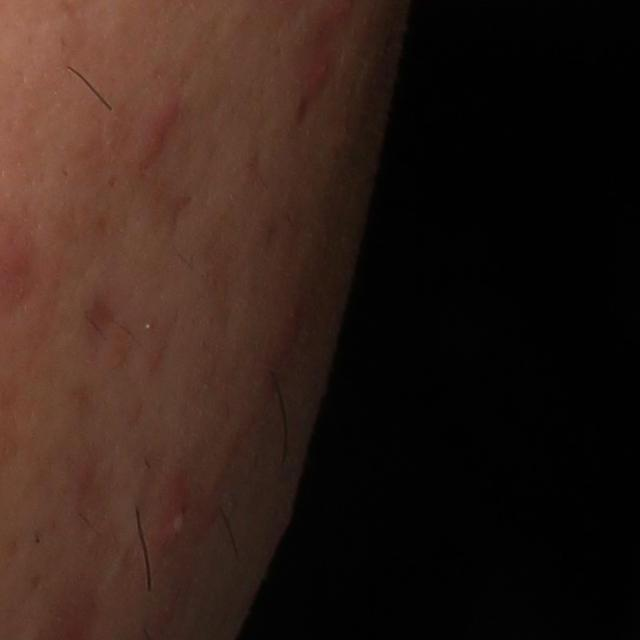papule: (127, 96, 183, 173), (305, 53, 333, 86)
